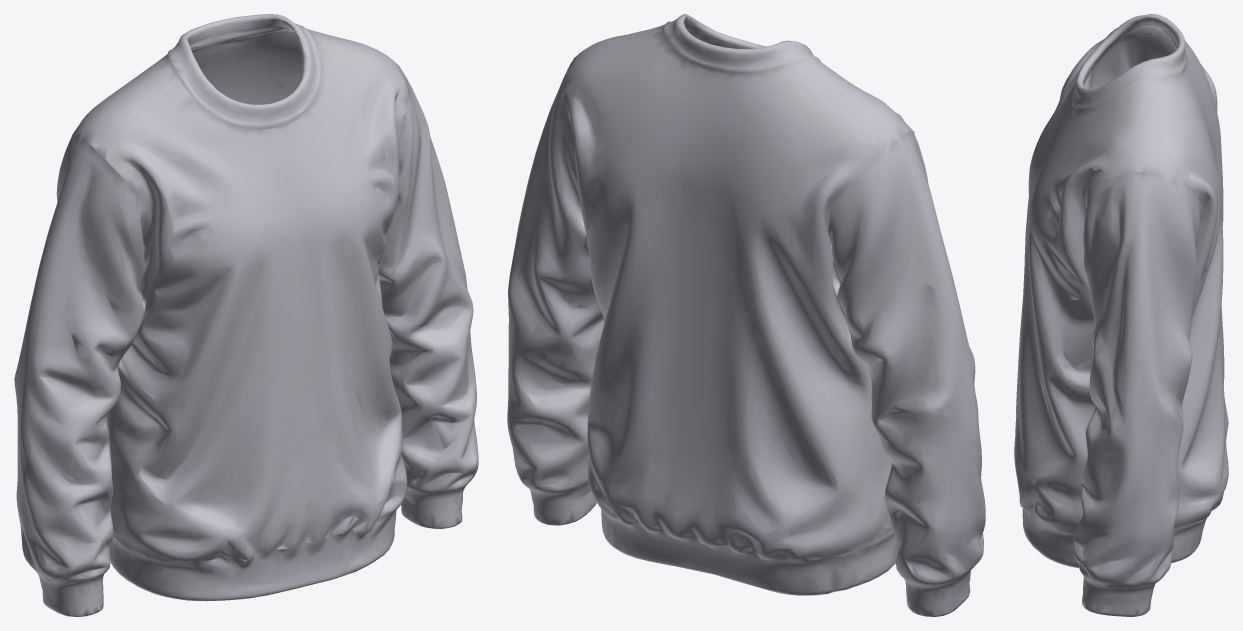
Rendered from sweatshirt-long.glb.
3 views of the same model, side by side, from view 1: azimuth 30°, elevation 25°; view 2: azimuth 150°, elevation 25°; view 3: azimuth 270°, elevation 25° (orthographic). The views are drawn at different scales.
Parts seen in each view (by area): view 1: material; view 2: material; view 3: material.
Boxes of the visible parts, x1=… form: material: x1=14, y1=14, x2=478, y2=616; material: x1=507, y1=14, x2=985, y2=616; material: x1=1014, y1=14, x2=1228, y2=616.
Size of the model in its own units: 0.8428 by 0.9362 by 0.3716.
Materials: 1 (1 with a texture image).
